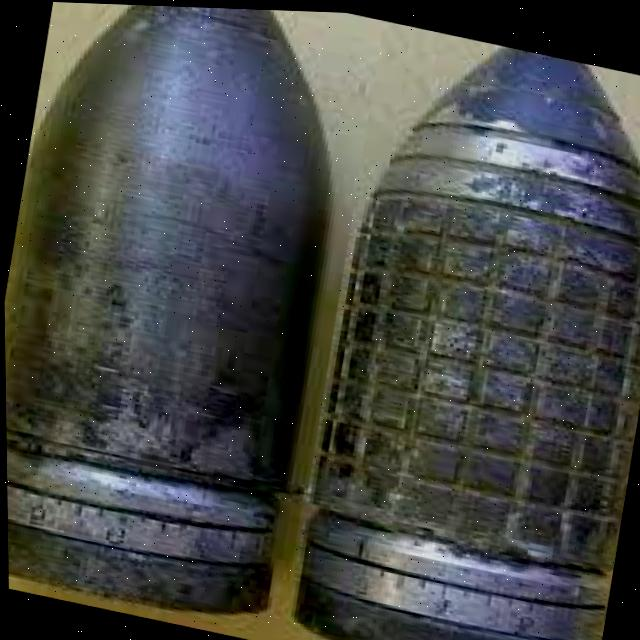grenade: (0, 0, 378, 640), (268, 13, 640, 640)
